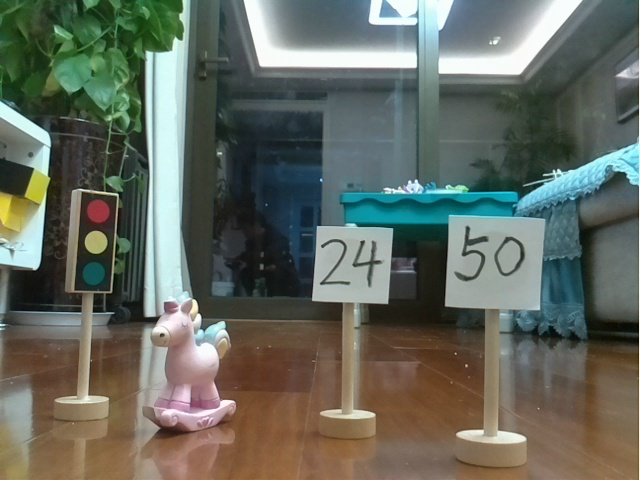Horse: (138, 287, 246, 436)
Red Traffic Light: (49, 185, 123, 430)
Speed Limit 24: (300, 220, 405, 441)
Speed Limit 50: (441, 209, 544, 470)
